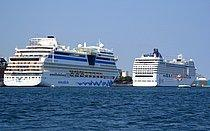Ship: (4, 35, 122, 90), (132, 48, 200, 90)
